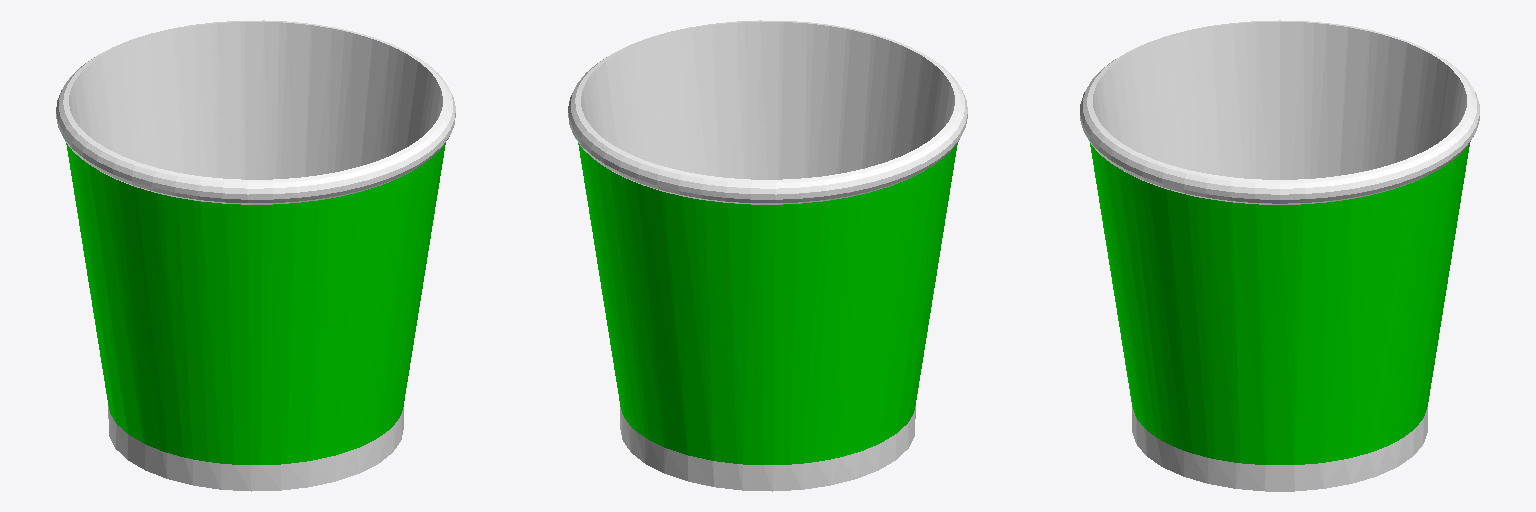
URDF robot description (green_paper_cup):
<?xml version="1.0"?>
<robot name="green_paper_cup">
<!--    <link name="world"/>-->
    <link name="green_paper_cup_link">
    <inertial>
      <origin xyz="0 0 0" rpy="0 0 0" />
      <mass value="0.0101" />
      <inertia ixx="1.293E-06" ixy="0.0" ixz="0.0" iyy="1.293E-06" iyz="0.0" izz="2.545E-06" />
    </inertial>
    <visual>
      <origin xyz="0 0 0" rpy="0 0 0" />
      <geometry>
        <mesh filename="package://competition_world/models/meshes/green_paper_cup.dae" />
      </geometry>
    </visual>
    <collision>
      <origin xyz="0 0 0" rpy="0 0 0" />
      <geometry>
        <mesh filename="package://competition_world/models/meshes/green_paper_cup.dae" />
      </geometry>
    </collision>
  </link>
<!--  <joint name="paper_cup_joint" type="fixed">-->
<!--    <parent link="world"/>-->
<!--    <child link="green_paper_cup_link"/>-->
<!--    <origin xyz="0 0 0.0" rpy="0 0 0"/>-->
<!--  </joint>-->
</robot>

--- What the picture shows (computed from the rendered views, not written in the file) ---
Views: 3 orthographic renders of the robot side by side, from view 1: azimuth 30°, elevation 25°; view 2: azimuth 150°, elevation 25°; view 3: azimuth 270°, elevation 25°.
Model green_paper_cup with 1 links and 0 joints (none), rooted at green_paper_cup_link, posed all joints at 0.
Visible links, largest first — view 1: green_paper_cup_link; view 2: green_paper_cup_link; view 3: green_paper_cup_link.
Link boxes in pixels (x1,y1,x2,y2): green_paper_cup_link: (56,20,455,491); green_paper_cup_link: (568,20,967,491); green_paper_cup_link: (1080,20,1479,491).
Size in the robot's own frame: 0.0662 by 0.0661 by 0.06 metres.
1 mesh visuals loaded from 1 distinct referenced files (1 Collada DAE).